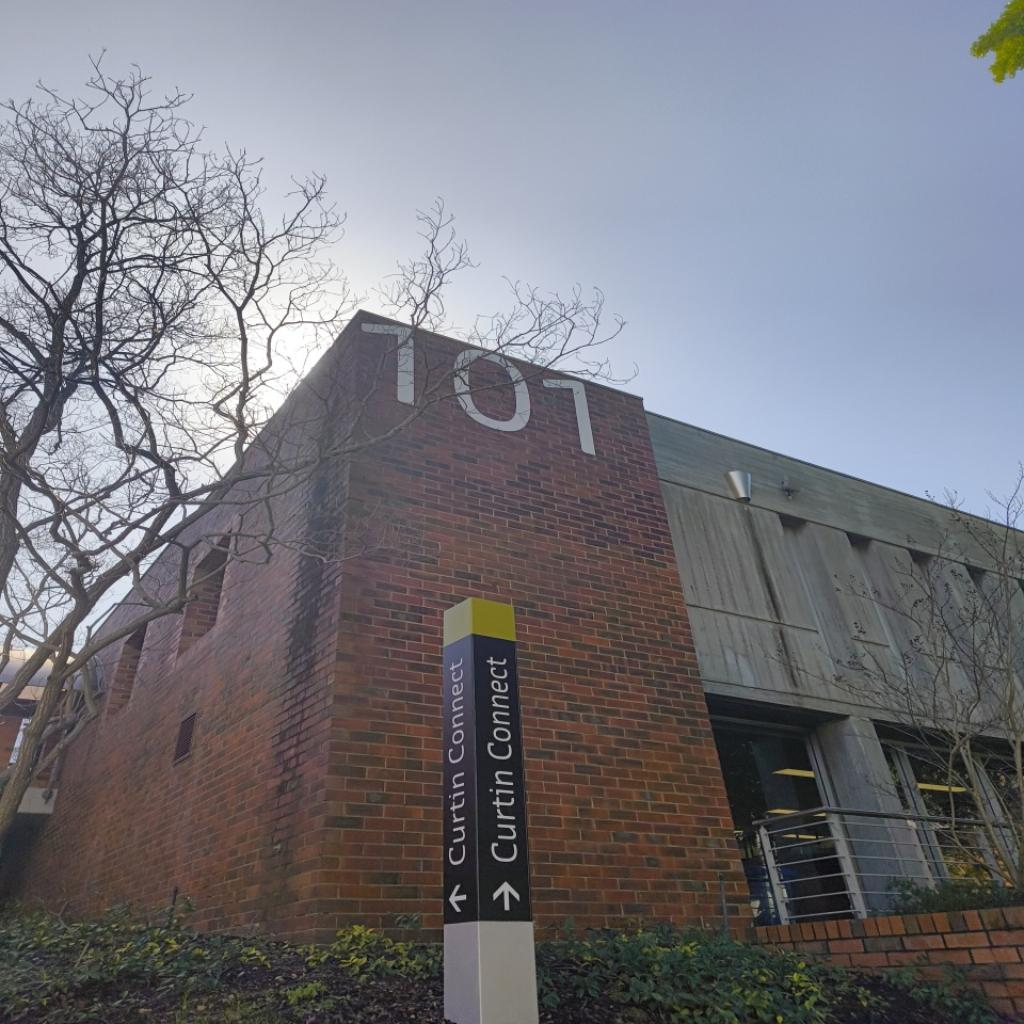BuildingCodes: (357, 318, 603, 462)
